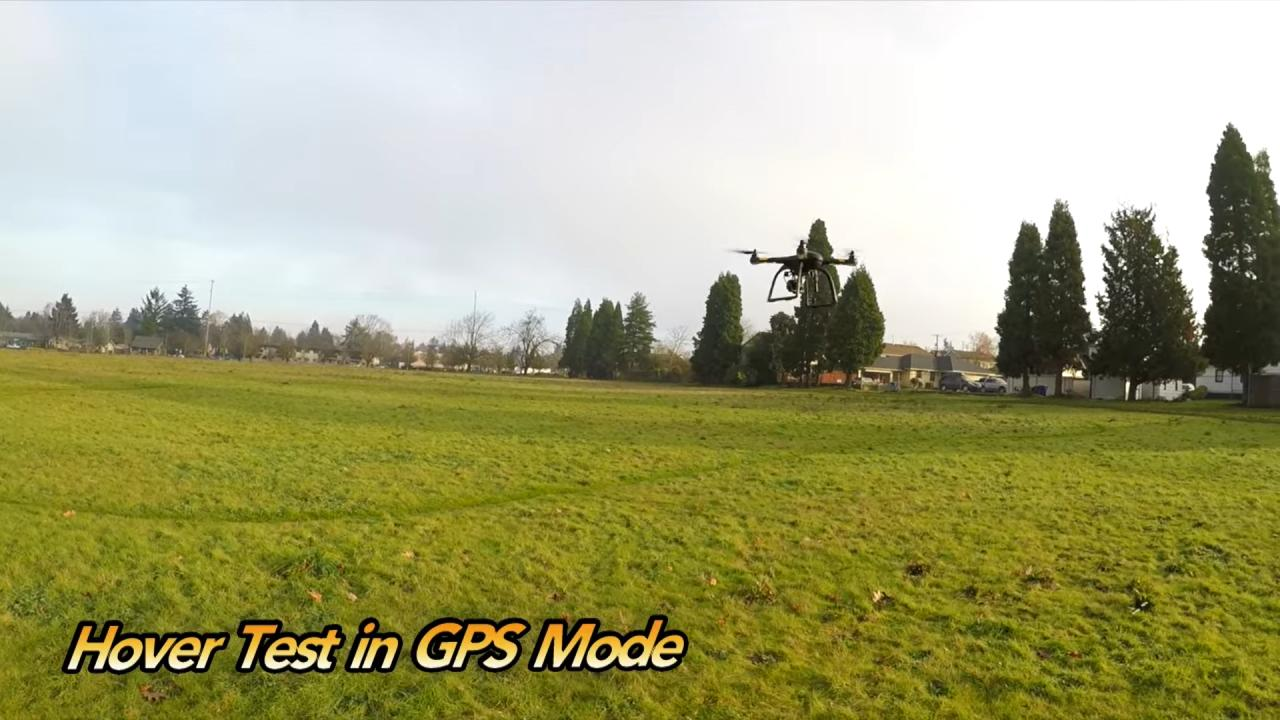Drone: (714, 238, 876, 321)
